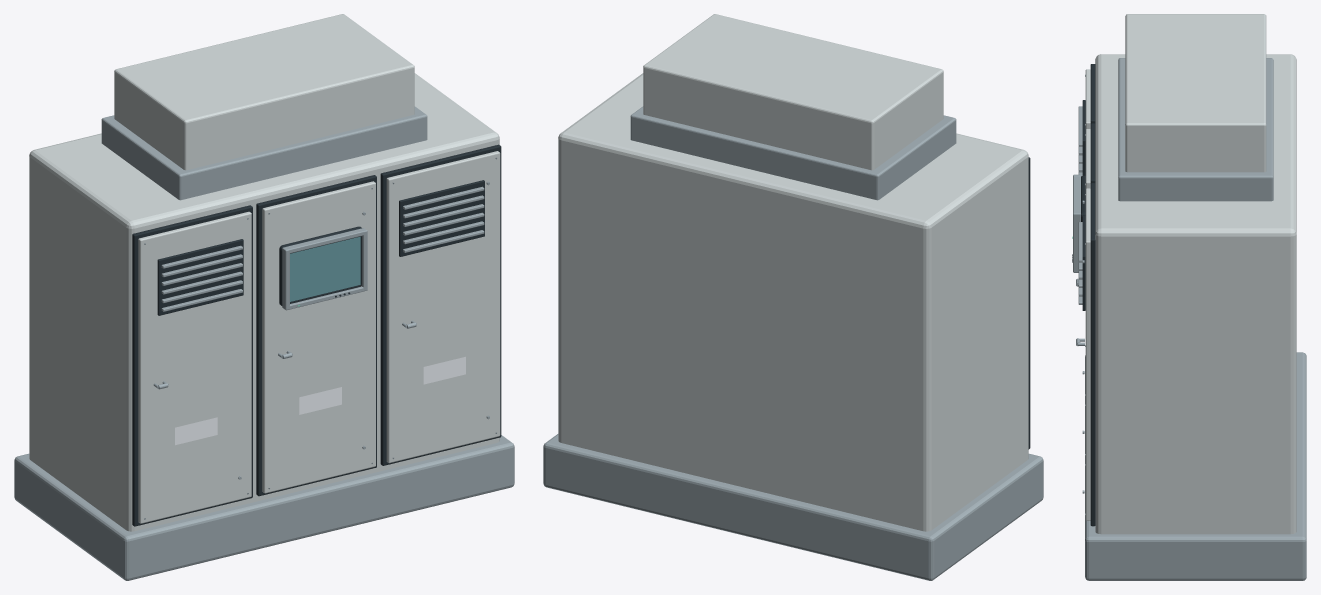
File: SF_AirHandlingUnit.fbx
3 renders of one model, left to right at view 1: azimuth 30°, elevation 25°; view 2: azimuth 150°, elevation 25°; view 3: azimuth 270°, elevation 25°, orthographic.
Parts seen in each view (by area): view 1: SF_AirHandlingUnit; view 2: SF_AirHandlingUnit; view 3: SF_AirHandlingUnit.
Part boxes in pixels (x1,y1,x2,y2): SF_AirHandlingUnit: (14, 14, 514, 580); SF_AirHandlingUnit: (543, 14, 1043, 580); SF_AirHandlingUnit: (1072, 14, 1306, 580).
Bounding box in the file's own units: 220 × 230 × 116.
